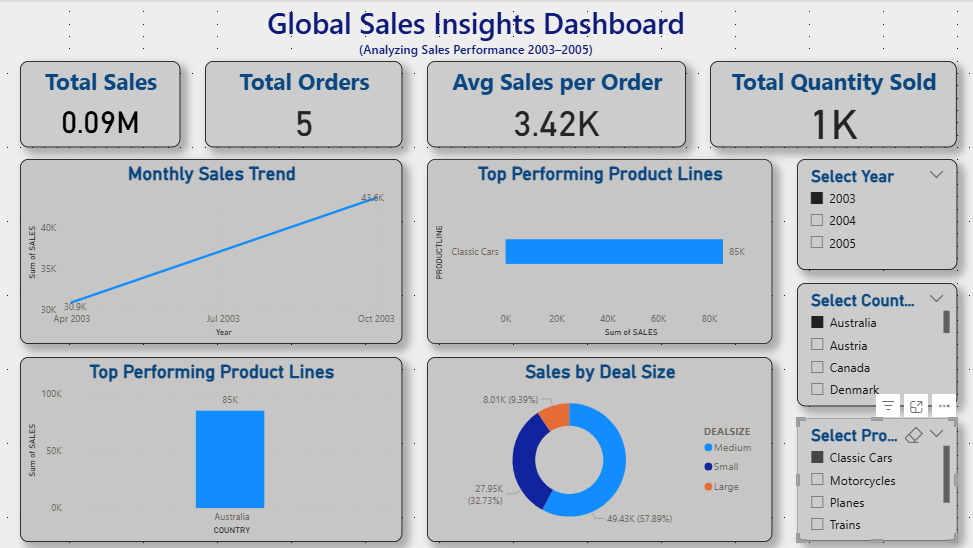

This screenshot's page, from the dashboard's own definition file:
{"tool":"powerbi","page":{"name":"Page 1","canvas":[1280,720],"ordinal":0},"visuals":[{"type":"textbox","box":[0,0,1248,80],"z":0},{"type":"card","title":"Total Sales","fields":{"Values":["Sum(sales_data_sample.SALES)"]},"box":[32,80,208,112],"z":1000},{"type":"card","title":"Total Orders","fields":{"Values":["Count(sales_data_sample.ORDERNUMBER)"]},"box":[272,80,256,112],"z":2000},{"type":"card","title":"Avg Sales per Order","fields":{"Values":["Avg(sales_data_sample.SALES)"]},"box":[560,80,336,112],"z":3000},{"type":"card","title":"Total Quantity Sold","fields":{"Values":["Sum(sales_data_sample.QUANTITYORDERED)"]},"box":[928,80,320,112],"z":4000},{"type":"lineChart","title":"Monthly Sales Trend","fields":{"Category":["sales_data_sample.ORDERDATE.Variation.Date Hierarchy.Year","sales_data_sample.ORDERDATE.Variation.Date Hierarchy.Quarter","sales_data_sample.ORDERDATE.Variation.Date Hierarchy.Month","sales_data_sample.ORDERDATE.Variation.Date Hierarchy.Day"],"Y":["Sum(sales_data_sample.SALES)"]},"box":[32,208,496,240],"z":5000},{"type":"clusteredBarChart","title":"Top Performing Product Lines","fields":{"Category":["sales_data_sample.PRODUCTLINE"],"Y":["Sum(sales_data_sample.SALES)"]},"box":[560,208,448,240],"z":6000},{"type":"clusteredColumnChart","title":"Top Performing Product Lines","fields":{"Category":["sales_data_sample.COUNTRY"],"Y":["Sum(sales_data_sample.SALES)"]},"box":[32,464,496,240],"z":7000},{"type":"donutChart","title":"Sales by Deal Size","fields":{"Category":["sales_data_sample.DEALSIZE"],"Y":["Sum(sales_data_sample.SALES)"]},"box":[560,464,448,240],"z":8000},{"type":"slicer","title":"Total Sales","fields":{"Values":["sales_data_sample.YEAR_ID"]},"box":[1040,208,208,144],"z":9000},{"type":"slicer","title":"Total Sales","fields":{"Values":["sales_data_sample.COUNTRY"]},"box":[1040,368,208,160],"z":10000},{"type":"slicer","title":"Total Sales","fields":{"Values":["sales_data_sample.PRODUCTLINE"]},"box":[1040,544,208,160],"z":11000}]}

Visuals, with their boxes in screenshot pixels (x1, y1, x2, y2), scaled from the page's 1280x720 canvas onto the 973x548 screenshot:
textbox: rect(0, 0, 949, 61)
"Total Sales" card: rect(24, 61, 182, 146)
"Total Orders" card: rect(207, 61, 401, 146)
"Avg Sales per Order" card: rect(426, 61, 681, 146)
"Total Quantity Sold" card: rect(705, 61, 949, 146)
"Monthly Sales Trend" lineChart: rect(24, 158, 401, 341)
"Top Performing Product Lines" clusteredBarChart: rect(426, 158, 766, 341)
"Top Performing Product Lines" clusteredColumnChart: rect(24, 353, 401, 536)
"Sales by Deal Size" donutChart: rect(426, 353, 766, 536)
"Total Sales" slicer: rect(791, 158, 949, 268)
"Total Sales" slicer: rect(791, 280, 949, 402)
"Total Sales" slicer: rect(791, 414, 949, 536)
